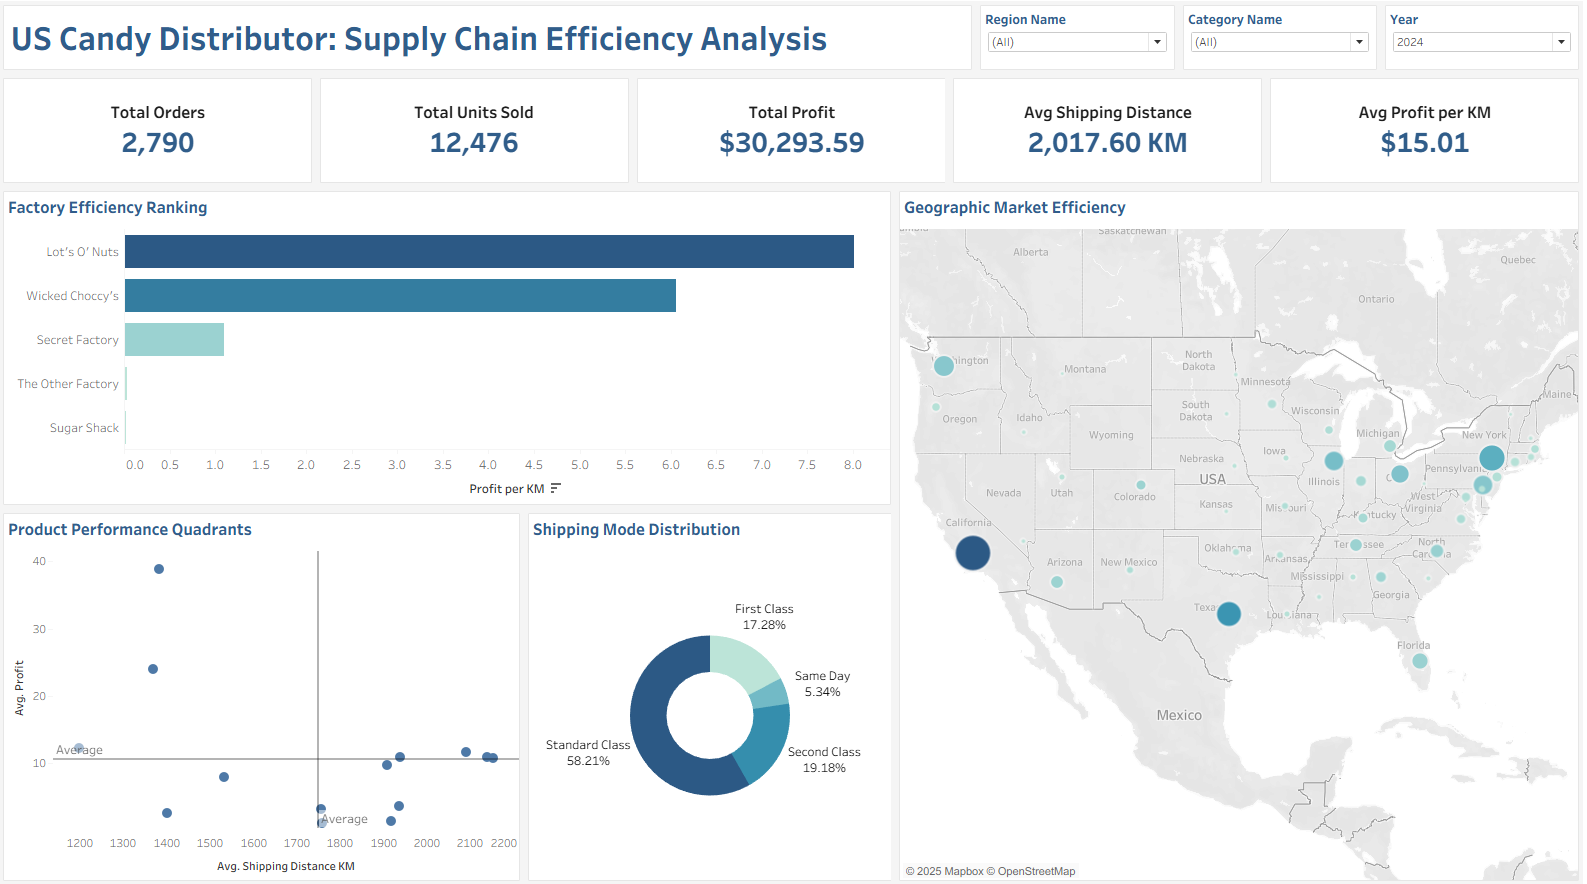

What the dashboard file says about the page in this screenshot:
{"tool":"tableau","page":{"name":"Dashboard","canvas":[1600,900],"ordinal":0},"visuals":[{"type":"text","box":[8,8,977.2,72.7]},{"type":"filter","title":"Factory Performance","param":"[federated.0bupdro1wisn2r174bz3m05kt1ff].[none:RegionName:nk]","box":[985,8,203,73]},{"type":"filter","title":"Factory Performance","param":"[federated.0bupdro1wisn2r174bz3m05kt1ff].[none:CategoryName:nk]","box":[1188,8,202,73]},{"type":"filter","title":"Factory Performance","param":"[federated.0bupdro1wisn2r174bz3m05kt1ff].[none:Year:nk]","box":[1390,8,202,73]},{"type":"worksheet","title":"KPI - Total Orders","mark":"Automatic","box":[8,80.7,316.8,113.3]},{"type":"worksheet","title":"KPI - Total Units","mark":"Automatic","box":[324.8,80.7,316.8,113.3]},{"type":"worksheet","title":"KPI - Total Profit","mark":"Automatic","box":[641.6,80.7,316.8,113.3]},{"type":"worksheet","title":"KPI - Avg Distance","mark":"Automatic","box":[958.4,80.7,316.8,113.3]},{"type":"worksheet","title":"KPI - Avg Profit per KM","mark":"Automatic","box":[1275.2,80.7,316.8,113.3]},{"type":"worksheet","title":"Factory Performance","mark":"Automatic","rows":["FactoryName"],"cols":["Calculation_2183119955826716672"],"box":[8,194,896.3,321.8]},{"type":"worksheet","title":"Geographic Efficiency","mark":"Automatic","rows":["Latitude (LocationDim)"],"cols":["Longitude (LocationDim)"],"box":[904.3,194,687.7,698]},{"type":"worksheet","title":"Product Efficiency Quadrants","mark":"Circle","rows":["Profit"],"cols":["ShippingDistanceKM"],"box":[8,515.9,524.7,376.1]},{"type":"worksheet","title":"Shipping Mode Usage","mark":"Pie","rows":["Calculation_2183119955904638978","Calculation_2183119955904663556"],"box":[532.7,515.9,371.7,376.1]}]}

Visuals, with their boxes in screenshot pixels (x1, y1, x2, y2), scaled from the page's 1600x900 canvas onto the 1587x884 screenshot:
text: bbox=(8, 8, 977, 79)
"Factory Performance" filter: bbox=(977, 8, 1178, 80)
"Factory Performance" filter: bbox=(1178, 8, 1379, 80)
"Factory Performance" filter: bbox=(1379, 8, 1579, 80)
"KPI - Total Orders" worksheet: bbox=(8, 79, 322, 191)
"KPI - Total Units" worksheet: bbox=(322, 79, 636, 191)
"KPI - Total Profit" worksheet: bbox=(636, 79, 951, 191)
"KPI - Avg Distance" worksheet: bbox=(951, 79, 1265, 191)
"KPI - Avg Profit per KM" worksheet: bbox=(1265, 79, 1579, 191)
"Factory Performance" worksheet: bbox=(8, 191, 897, 507)
"Geographic Efficiency" worksheet: bbox=(897, 191, 1579, 876)
"Product Efficiency Quadrants" worksheet (Circle marks): bbox=(8, 507, 528, 876)
"Shipping Mode Usage" worksheet (Pie marks): bbox=(528, 507, 897, 876)
